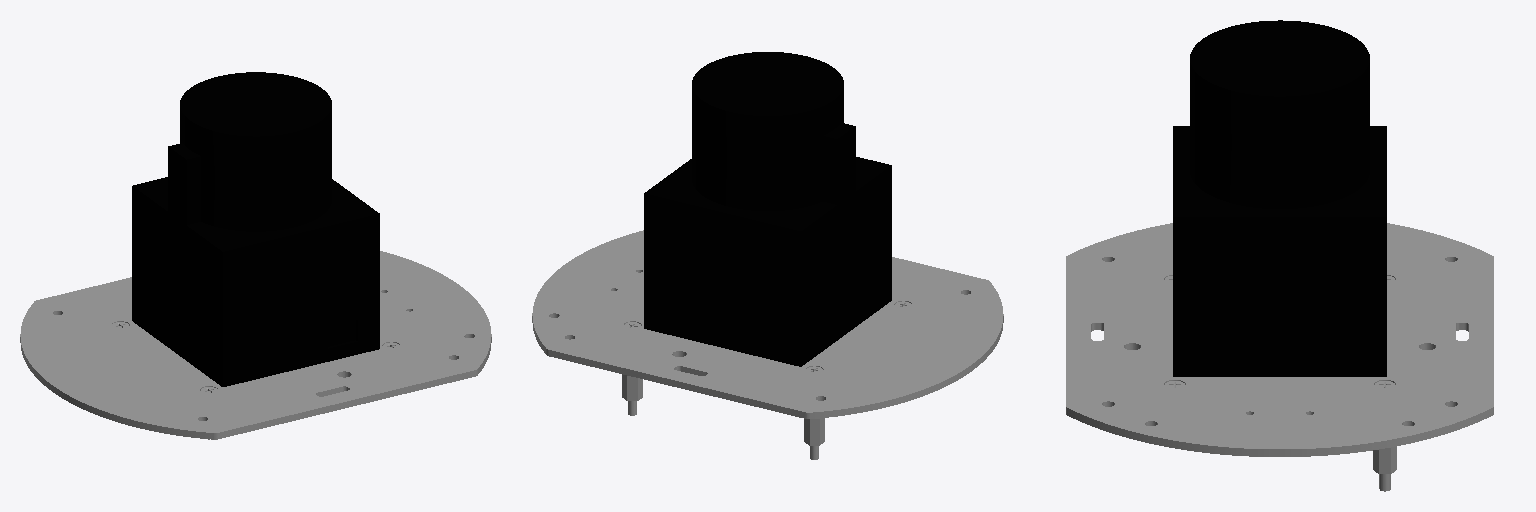
URDF robot description (raspimouse):
<?xml version="1.0"?>
<robot name="raspimouse">
  <link name="base_footprint"/>

  <joint name="base_joint" type="fixed">
    <origin xyz="0 0 0.00185"/>
    <parent link="base_footprint"/>
    <child link="base_link"/>
  </joint>

  <link name="base_link">
     <visual>
      <geometry>
        <mesh filename="package://raspimouse_description/meshes/dae/body/raspimouse_body.dae"/>
      </geometry>
    </visual>
  </link>

  <joint name="left_wheel_joint" type="continuous">
    <origin xyz="0 0.0425 0.02215" rpy="-1.57 0 0"/>
    <axis xyz="0 0 1"/> 
    <parent link="base_link"/>
    <child link="left_wheel_link"/>
  </joint>
  
  <link name="left_wheel_link">
     <visual>
      <geometry>
        <mesh filename="package://raspimouse_description/meshes/dae/wheel/raspimouse_wheel.dae"/>
      </geometry>
    </visual>
  </link>
  
  <joint name="right_wheel_joint" type="continuous">
    <origin xyz="0 -0.0425 0.02215" rpy="1.57 0 0"/>
    <axis xyz="0 0 1"/> 
    <parent link="base_link"/>
    <child link="right_wheel_link"/>
  </joint>
  
  <link name="right_wheel_link">
     <visual>
      <geometry>
        <mesh filename="package://raspimouse_description/meshes/dae/wheel/raspimouse_wheel.dae"/>
      </geometry>
    </visual>
  </link>
  
  <joint name="urg_mount_joint" type="fixed">
    <origin xyz="0 0 0" rpy="0 0 0"/>
    <parent link="base_link"/>
    <child link="urg_mount_link"/>
  </joint>
  
  <link name="urg_mount_link">
     <visual>
      <geometry>
        <mesh filename="package://raspimouse_description/meshes/dae/body/raspimouse_top_plate.dae"/>
      </geometry>
    </visual>
  </link>
  
  <joint name="urg_joint" type="fixed">
    <origin xyz="0.0 0.0 0.14060" rpy="0 0 0" />
    <parent link="urg_mount_link"/>
    <child link="lidar_link"/>
  </joint>
  
  <link name="lidar_link">
     <visual>
      <geometry>
        <mesh filename="package://raspimouse_description/meshes/dae/sensor/urg_optical_axis_center_origin.dae"/>
      </geometry>
    </visual>
  </link>

</robot>

--- What the picture shows (computed from the rendered views, not written in the file) ---
Views: 3 orthographic renders of the robot side by side, from view 1: azimuth 30°, elevation 25°; view 2: azimuth 150°, elevation 25°; view 3: azimuth 270°, elevation 25°.
Model raspimouse with 6 links and 5 joints (2 continuous, 3 fixed), rooted at base_footprint, posed all joints at 0.
Links seen in each view (by area): view 1: lidar_link, urg_mount_link; view 2: lidar_link, urg_mount_link; view 3: lidar_link, urg_mount_link.
Link boxes in pixels (box(x1,y1,x2,y2)): lidar_link: box(132, 72, 379, 386); urg_mount_link: box(20, 251, 491, 439); lidar_link: box(644, 52, 891, 366); urg_mount_link: box(532, 230, 1003, 459); lidar_link: box(1173, 20, 1386, 376); urg_mount_link: box(1066, 223, 1493, 491).
Size in the robot's own frame: 0.13 by 0.1 by 0.0973 metres.
2 mesh visuals loaded from 4 distinct referenced files (2 Collada DAE); not drawn: 3 (reference not matched to a file when rendering).